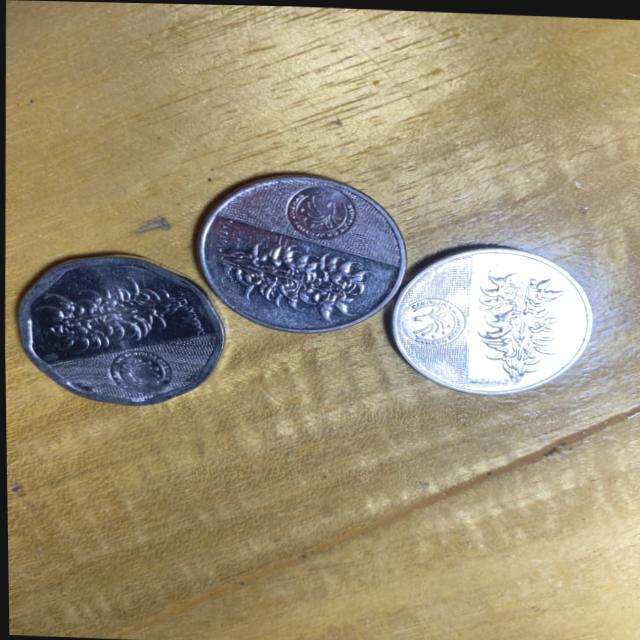5_New_Back: (202, 229, 379, 331)
